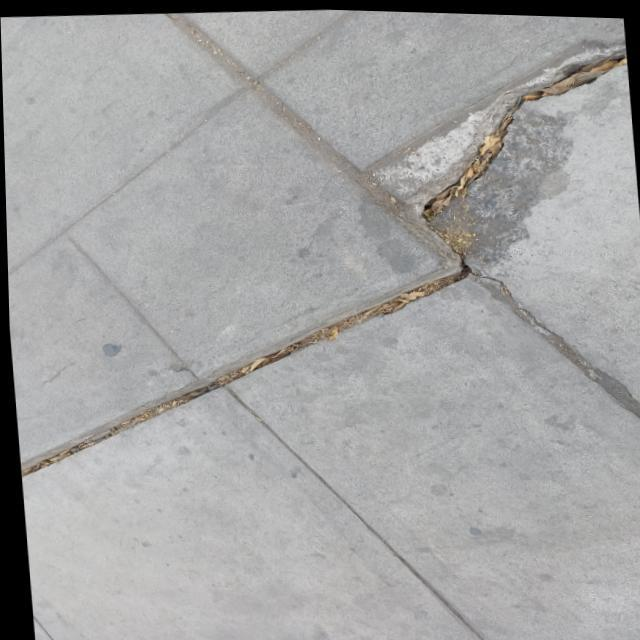hole: (6, 249, 485, 496), (358, 8, 640, 270)
